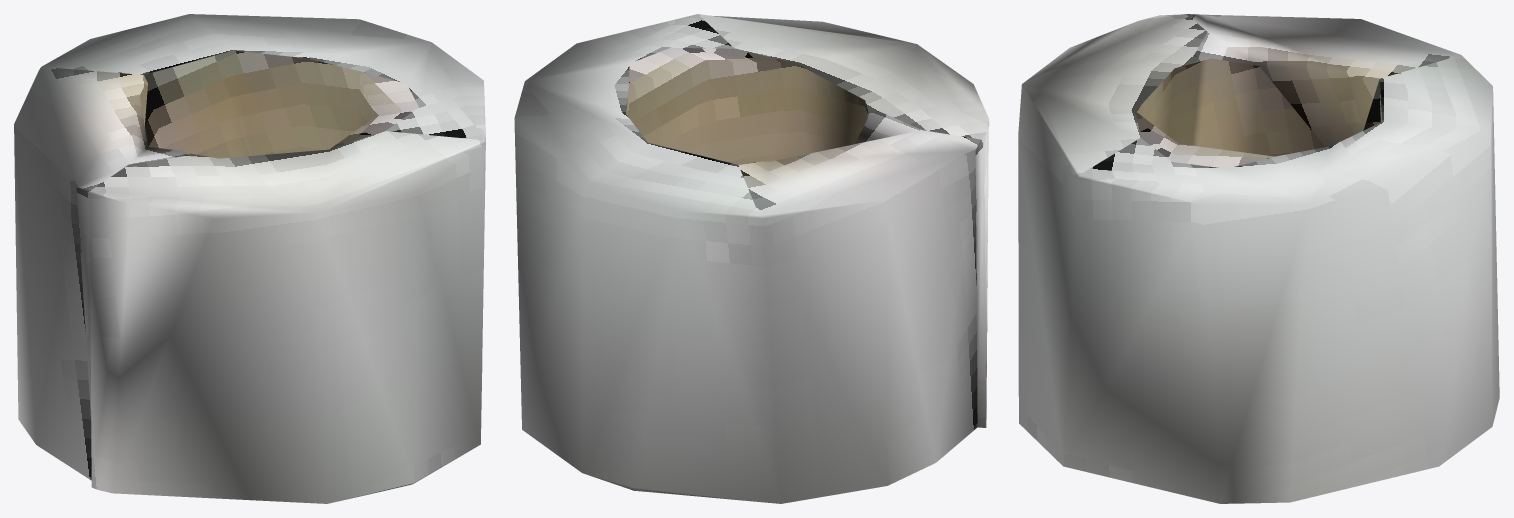
File: Cole_Hardware_Antislip_Surfacing_Material_White-low.glb
The picture shows the model from 3 angles, left to right: view 1: azimuth 30°, elevation 25°; view 2: azimuth 150°, elevation 25°; view 3: azimuth 270°, elevation 25°; orthographic projection.
Visible parts, largest first — view 1: Cole_Hardware_Antislip_Surfacing_Material_White; view 2: Cole_Hardware_Antislip_Surfacing_Material_White; view 3: Cole_Hardware_Antislip_Surfacing_Material_White.
Boxes of the visible parts, x1=… form: Cole_Hardware_Antislip_Surfacing_Material_White: x1=14, y1=14, x2=485, y2=503; Cole_Hardware_Antislip_Surfacing_Material_White: x1=514, y1=14, x2=989, y2=503; Cole_Hardware_Antislip_Surfacing_Material_White: x1=1018, y1=14, x2=1499, y2=503.
Size of the model in its own units: 0.1523 by 0.1076 by 0.1527.
1 material, 1 textured.
